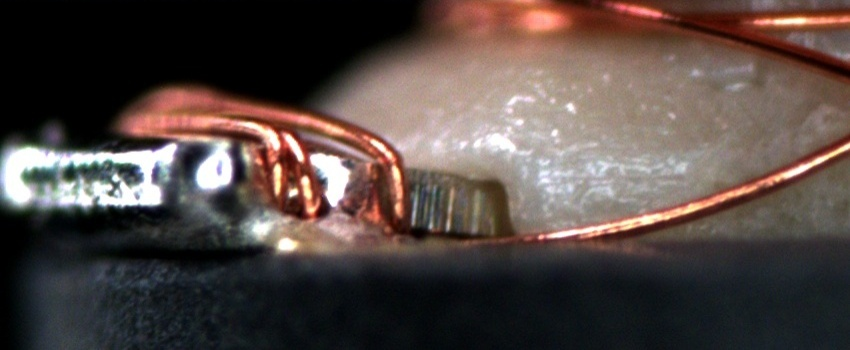DL: (541, 165, 692, 191)
TE: (114, 81, 415, 237)
